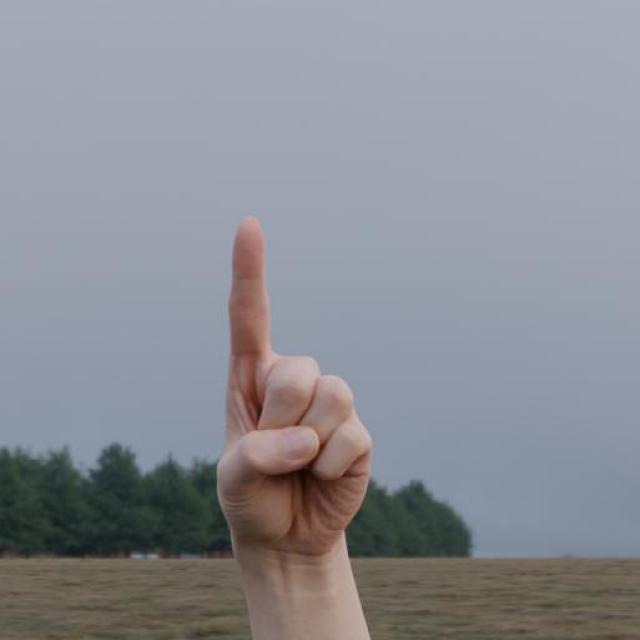Z: (193, 195, 430, 599)
